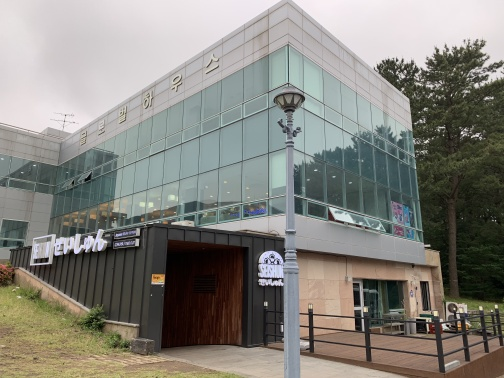Global House: (5, 57, 440, 360), (73, 20, 414, 360)
